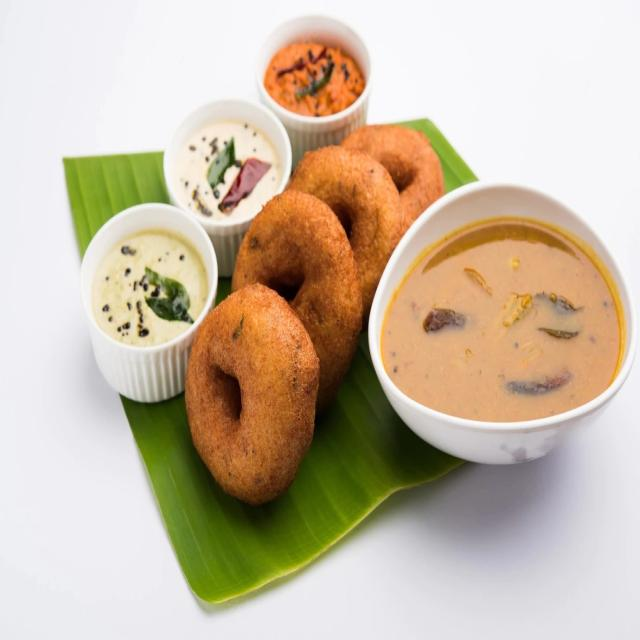RED CHUTNEY: (263, 38, 364, 119)
SAMBAR: (381, 218, 621, 424)
VADA: (183, 122, 449, 507)
WHITE CHUTNEY: (93, 231, 208, 346), (178, 120, 284, 223)
